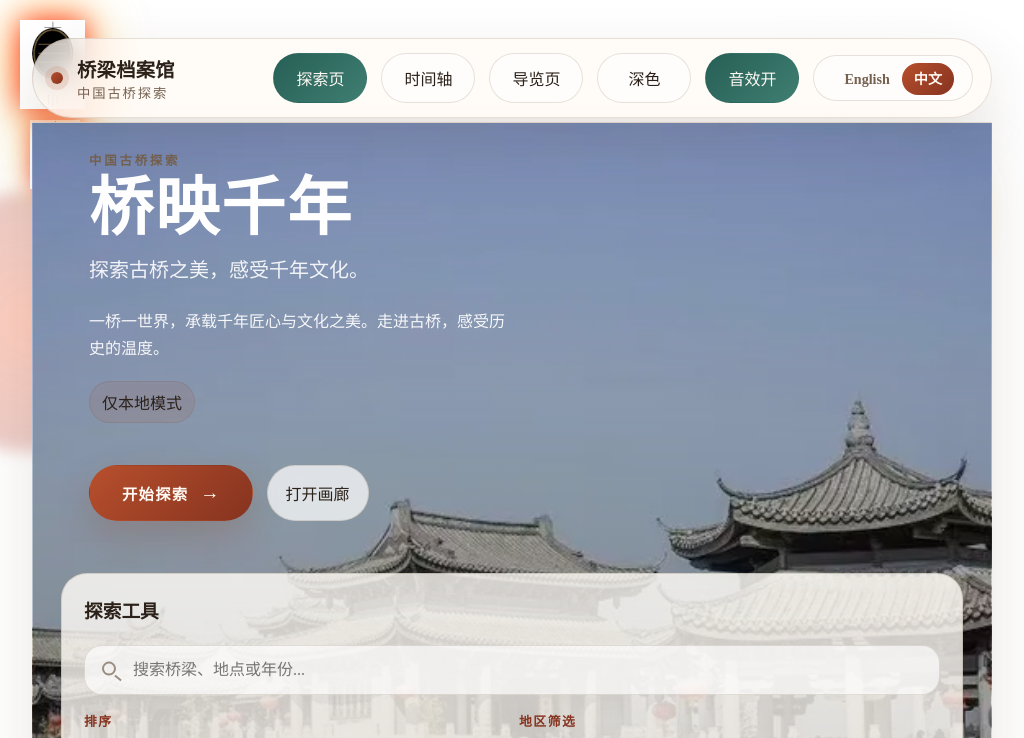
Scenario: recent searches can be cleared
In the search field with placeholder "搜索桥梁、地点或年份...": point(512, 670) left=84, top=645, right=940, bottom=695, type "北京"
(page scrolled)
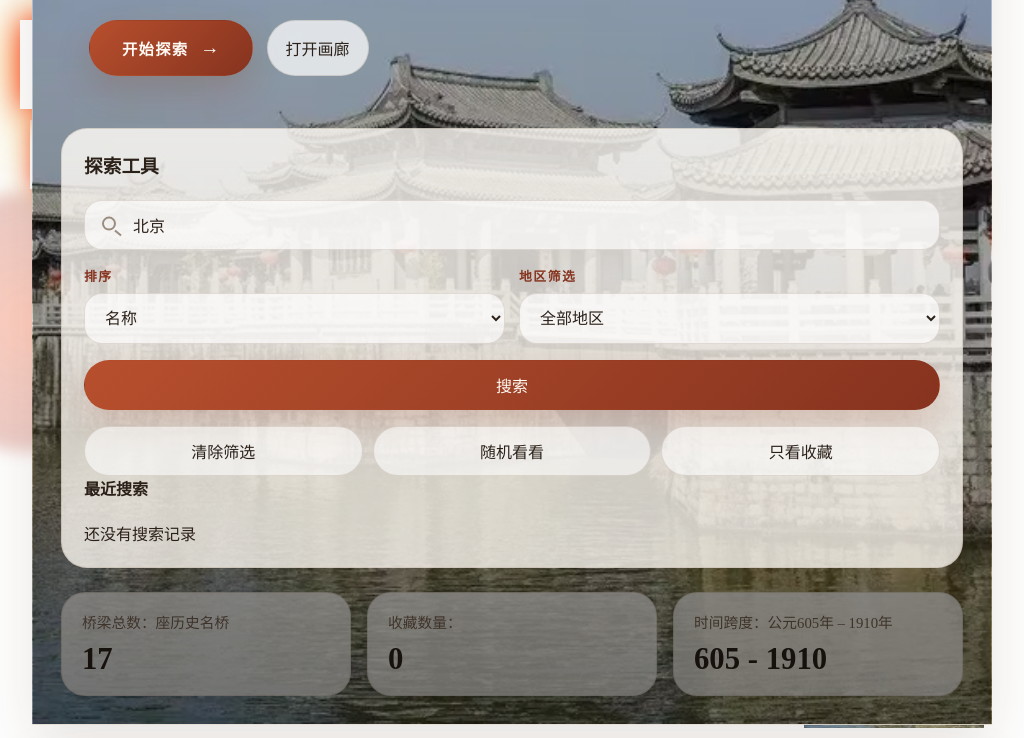
Click the button "搜索": point(512, 385) left=84, top=360, right=940, bottom=410
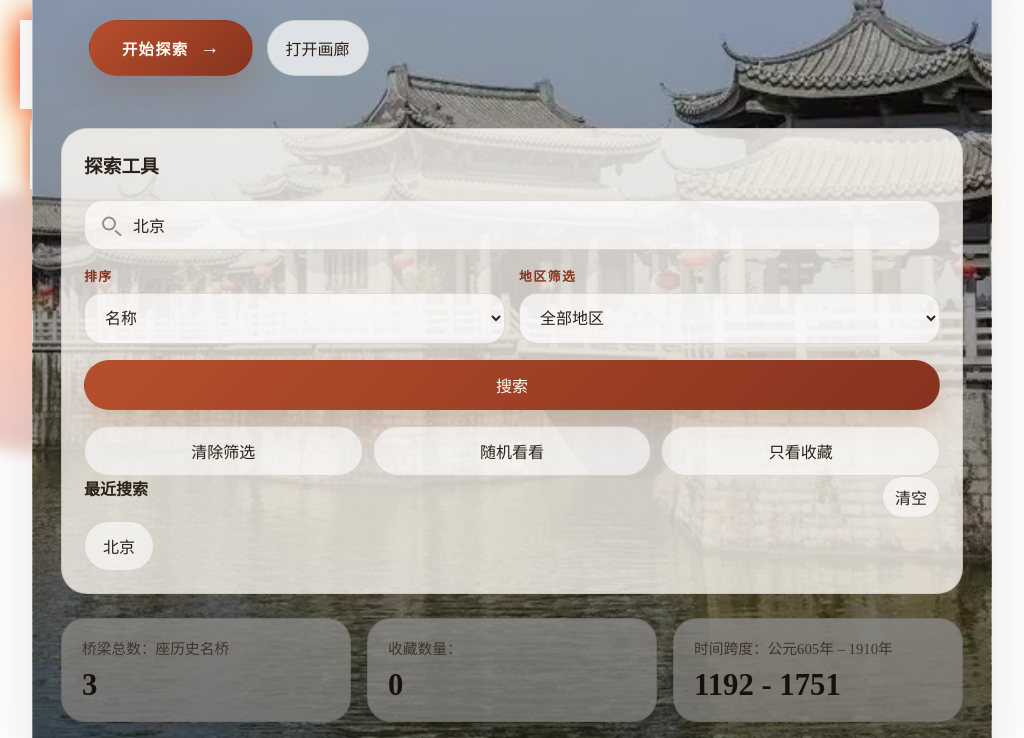
Expected: the button "北京" is shown, left=84, top=521, right=154, bottom=571
Click the button "清空": point(911, 497) left=882, top=476, right=940, bottom=518
(page scrolled)
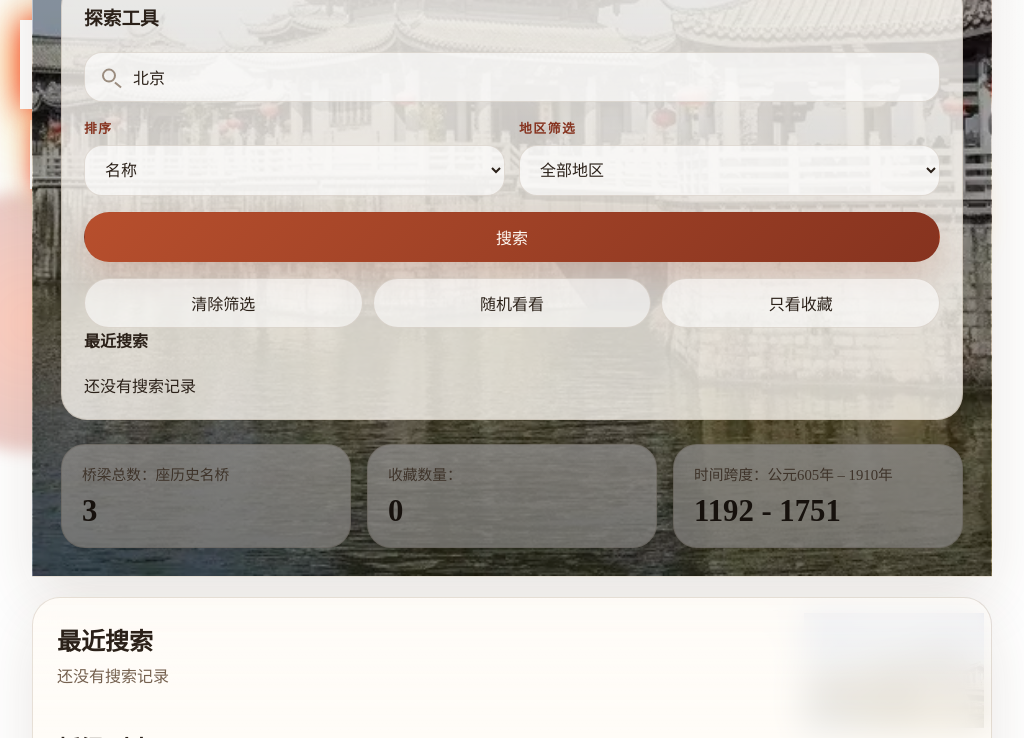
Expected: the 1st text "还没有搜索记录" is shown, left=84, top=373, right=196, bottom=397
